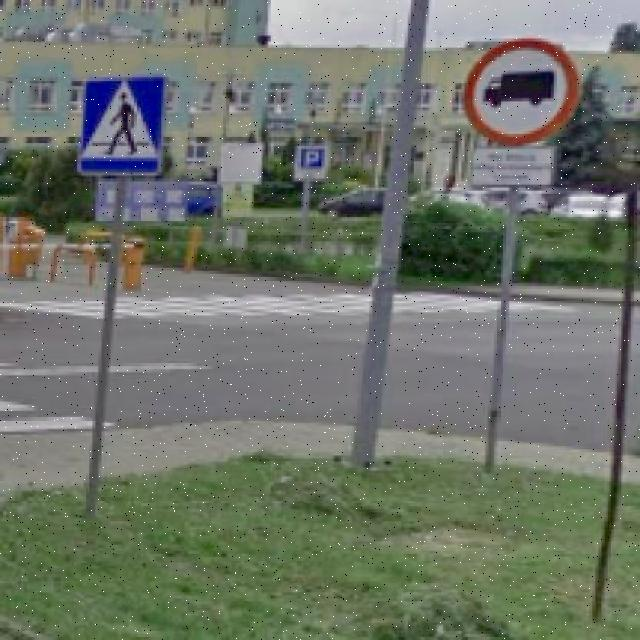Przejscie dla pieszych: (76, 73, 166, 179)
